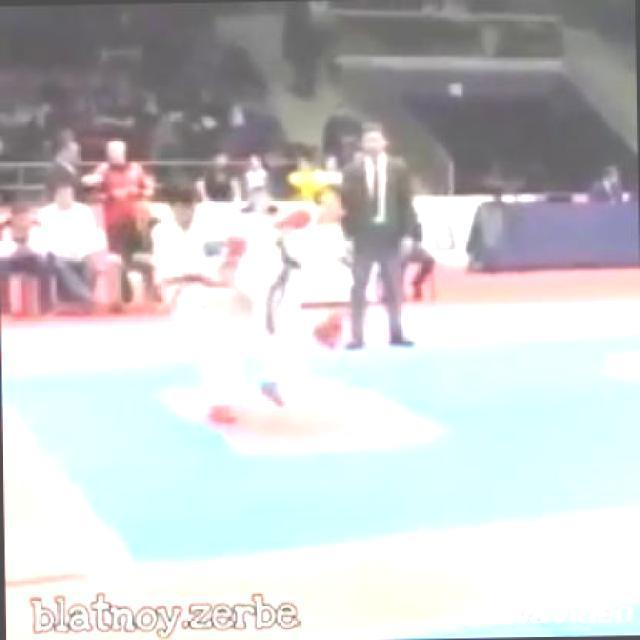fight: (146, 178, 352, 420)
